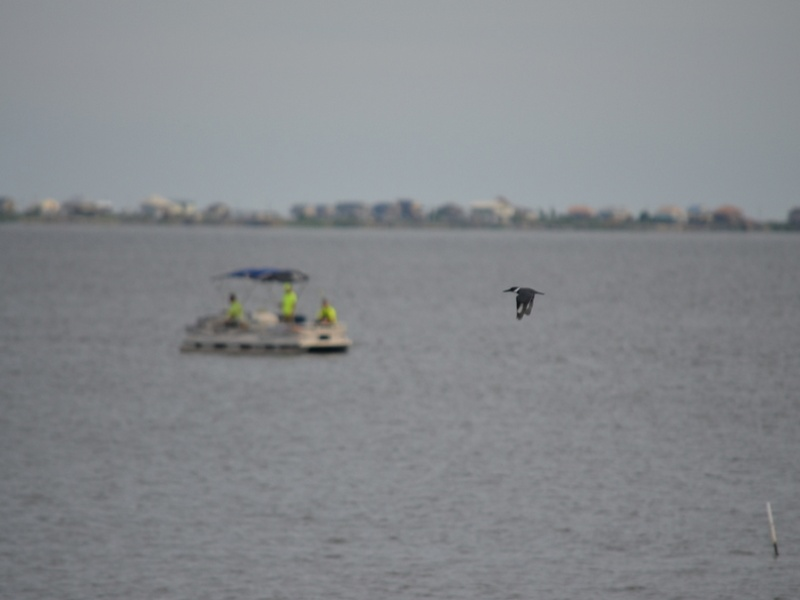kingfisher: (505, 284, 546, 321)
